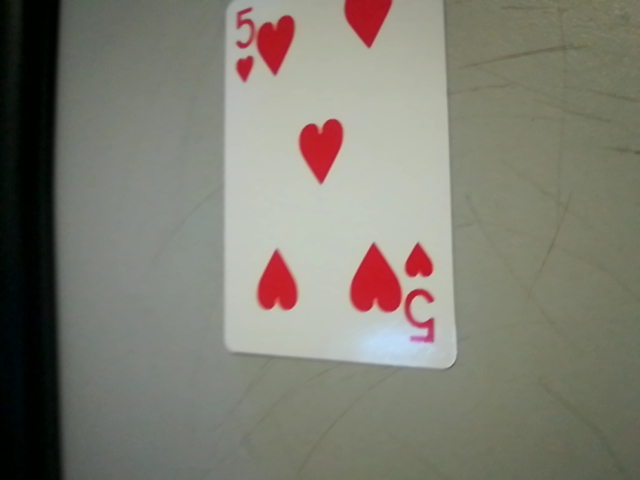hx 5: (403, 235, 454, 358)
